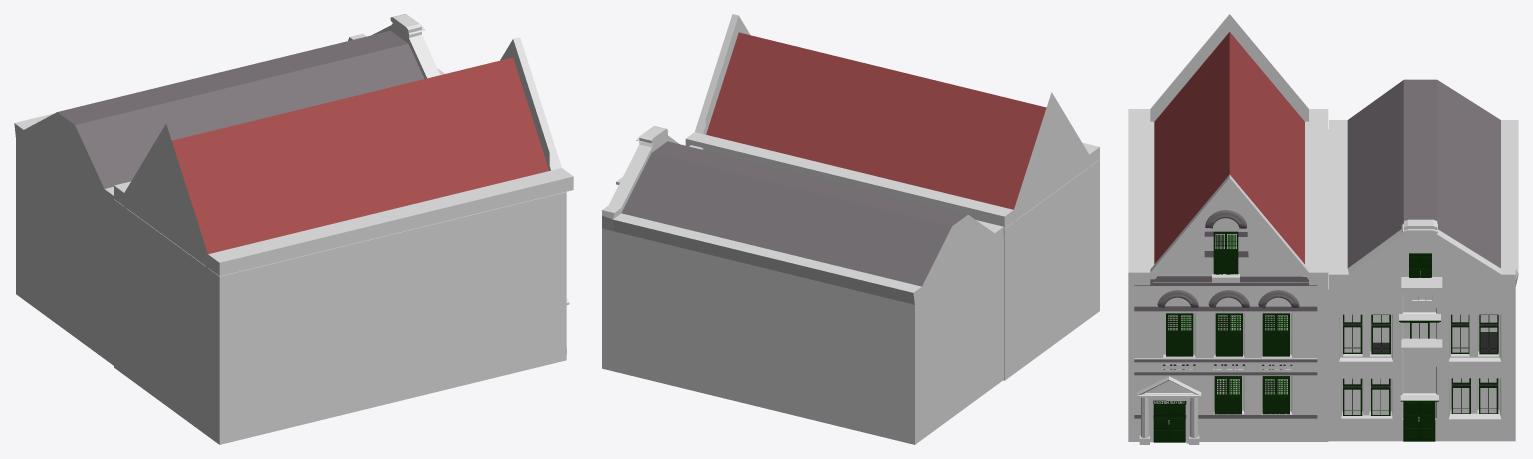
Rendered from MuseumWayang2.fbx.
The picture shows the model from 3 angles, left to right: view 1: azimuth 30°, elevation 25°; view 2: azimuth 150°, elevation 25°; view 3: azimuth 270°, elevation 25°; orthographic projection. The views are drawn at different scales.
Parts seen in each view (by area): view 1: Cube, Cube.002, Cube.023, Cube.001; view 2: Cube.001, Cube.002, Cube.023, Cube; view 3: Cube.002, Cube.023, Cube, Cube.001, Cube.034, Cube.022, Cube.003, Cube.005, Cube.007, Cube.033, Cube.004, Cube.008 (+18 smaller).
Boxes of the visible parts, bbox=[...] form: Cube: bbox=[114, 192, 566, 444]; Cube.002: bbox=[114, 37, 573, 276]; Cube.023: bbox=[14, 14, 440, 209]; Cube.001: bbox=[16, 139, 113, 365]; Cube.001: bbox=[602, 228, 1003, 444]; Cube.002: bbox=[685, 14, 1099, 228]; Cube.023: bbox=[602, 126, 1003, 304]; Cube: bbox=[1003, 159, 1099, 380]; Cube.002: bbox=[1128, 14, 1328, 285]; Cube.023: bbox=[1329, 79, 1518, 293]; Cube: bbox=[1128, 282, 1328, 441]; Cube.001: bbox=[1327, 129, 1515, 441]; Cube.034: bbox=[1403, 401, 1435, 441]; Cube.022: bbox=[1153, 404, 1185, 442]; Cube.003: bbox=[1215, 313, 1242, 356]; Cube.005: bbox=[1166, 313, 1193, 356]; Cube.007: bbox=[1262, 313, 1289, 356]; Cube.033: bbox=[1401, 277, 1442, 308]; Cube.004: bbox=[1213, 231, 1238, 274]; Cube.008: bbox=[1214, 376, 1241, 414].
Bounding box in the file's own units: 810 × 591 × 780.
